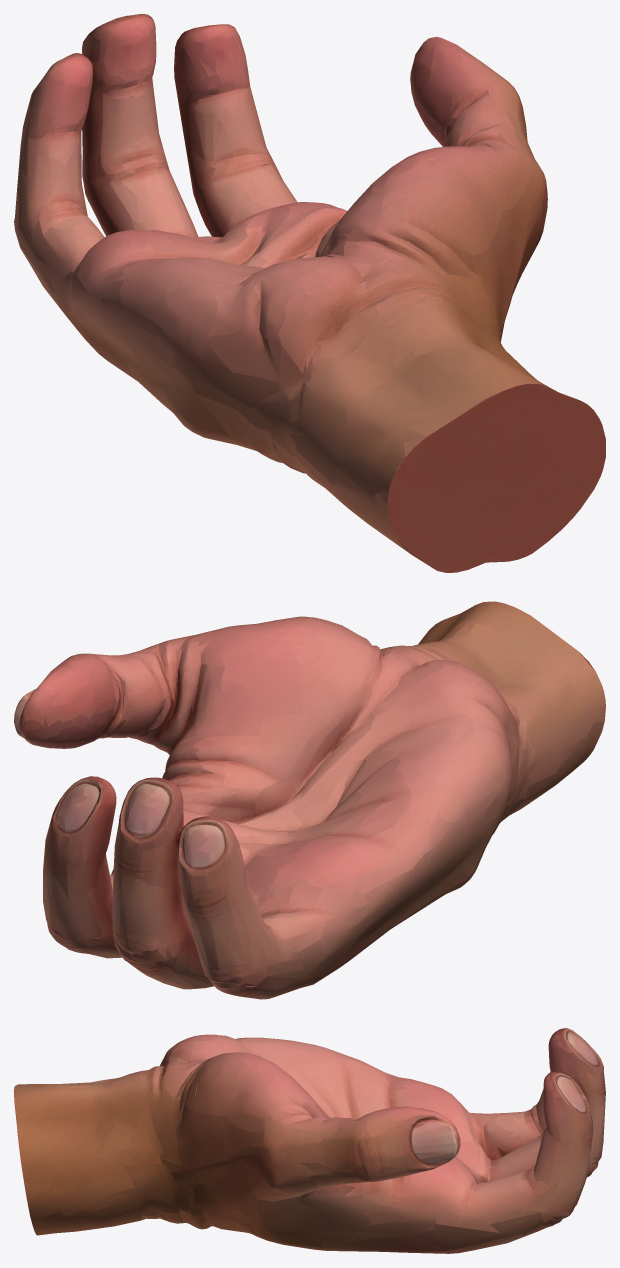
File: hand-fp.glb
The picture shows the model from 3 angles, top to bottom: view 1: azimuth 30°, elevation 25°; view 2: azimuth 150°, elevation 25°; view 3: azimuth 270°, elevation 25°; orthographic projection. The views are drawn at different scales.
Visible parts, largest first — view 1: hand-fp; view 2: hand-fp; view 3: hand-fp.
Boxes of the visible parts, x1,y1,x2,y2 form: hand-fp: (14, 14, 605, 572); hand-fp: (14, 601, 605, 999); hand-fp: (14, 1028, 605, 1253).
Bounding box in the file's own units: 0.1232 × 0.0806 × 0.2101.
1 material, 1 textured.
